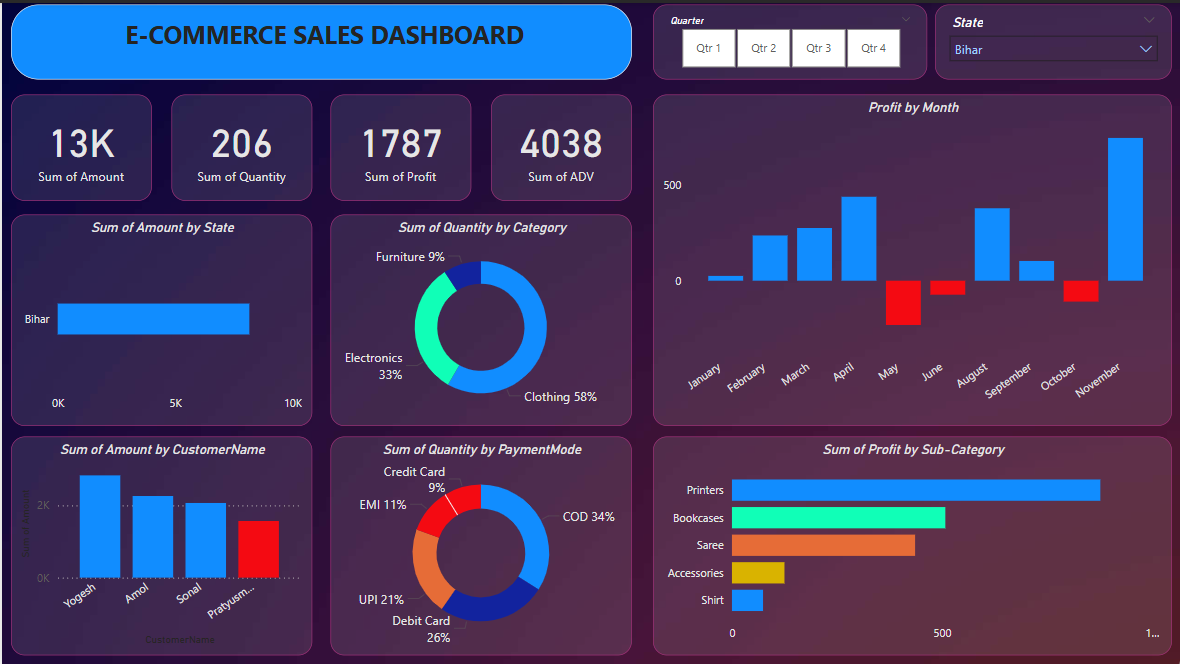

This screenshot's page, from the dashboard's own definition file:
{"tool":"powerbi","page":{"name":"Page 1","canvas":[1280,720],"ordinal":0},"visuals":[{"type":"columnChart","title":"Profit by Month","fields":{"Category":["Orders.Order Date.Variation.Date Hierarchy.Month"],"Y":["Details.Profit"]},"box":[705.9,99.2,562.8,359.5],"z":0},{"type":"barChart","fields":{"Category":["Details.Sub-Category"],"Y":["Details.Profit"]},"box":[705.9,470.1,562.8,237.5],"z":1000},{"type":"donutChart","fields":{"Y":["Details.Quantity"],"Category":["Details.PaymentMode"]},"box":[356.2,470.1,326.9,237.5],"z":2000},{"type":"donutChart","fields":{"Category":["Details.Category"],"Y":["Details.Quantity"]},"box":[356.2,229.3,326.9,229.3],"z":3000},{"type":"card","fields":{"Values":["Details.Amount"]},"box":[9.8,99.2,152.9,115.5],"z":4000},{"type":"card","fields":{"Values":["Details.Quantity"]},"box":[183.3,99.2,152.9,115.5],"z":5000},{"type":"card","fields":{"Values":["Details.Profit"]},"box":[356.2,99.2,152.9,115.5],"z":6000},{"type":"card","fields":{"Values":["Details.ADV"]},"box":[530.3,99.2,152.9,115.5],"z":7000},{"type":"barChart","fields":{"Category":["Orders.State"],"Y":["Details.Amount"]},"box":[9.8,229.3,326.9,229.3],"z":8000},{"type":"columnChart","fields":{"Category":["Orders.CustomerName"],"Y":["Details.Amount"]},"box":[9.8,470.1,326.9,237.5],"z":9000},{"type":"slicer","fields":{"Values":["Orders.Order Date.Variation.Date Hierarchy.Quarter"]},"box":[705.9,1.6,297.7,81.3],"z":10000},{"type":"slicer","fields":{"Values":["Orders.State"]},"box":[1011.7,1.6,257,81.3],"z":11000},{"type":"textbox","box":[9.8,1.6,673.4,81.3],"z":12000}]}

Visuals, with their boxes in screenshot pixels (x1, y1, x2, y2), scaled from the page's 1280x720 canvas onto the 1180x664 screenshot:
"Profit by Month" columnChart: [651, 91, 1170, 423]
barChart - Details.Sub-Category x Details.Profit: [651, 434, 1170, 653]
donutChart - Details.Quantity x Details.PaymentMode: [328, 434, 630, 653]
donutChart - Details.Category x Details.Quantity: [328, 211, 630, 423]
card - Details.Amount: [9, 91, 150, 198]
card - Details.Quantity: [169, 91, 310, 198]
card - Details.Profit: [328, 91, 469, 198]
card - Details.ADV: [489, 91, 630, 198]
barChart - Orders.State x Details.Amount: [9, 211, 310, 423]
columnChart - Orders.CustomerName x Details.Amount: [9, 434, 310, 653]
slicer - Orders.Order Date.Variation.Date Hierarchy.Quarter: [651, 1, 925, 76]
slicer - Orders.State: [933, 1, 1170, 76]
textbox: [9, 1, 630, 76]
